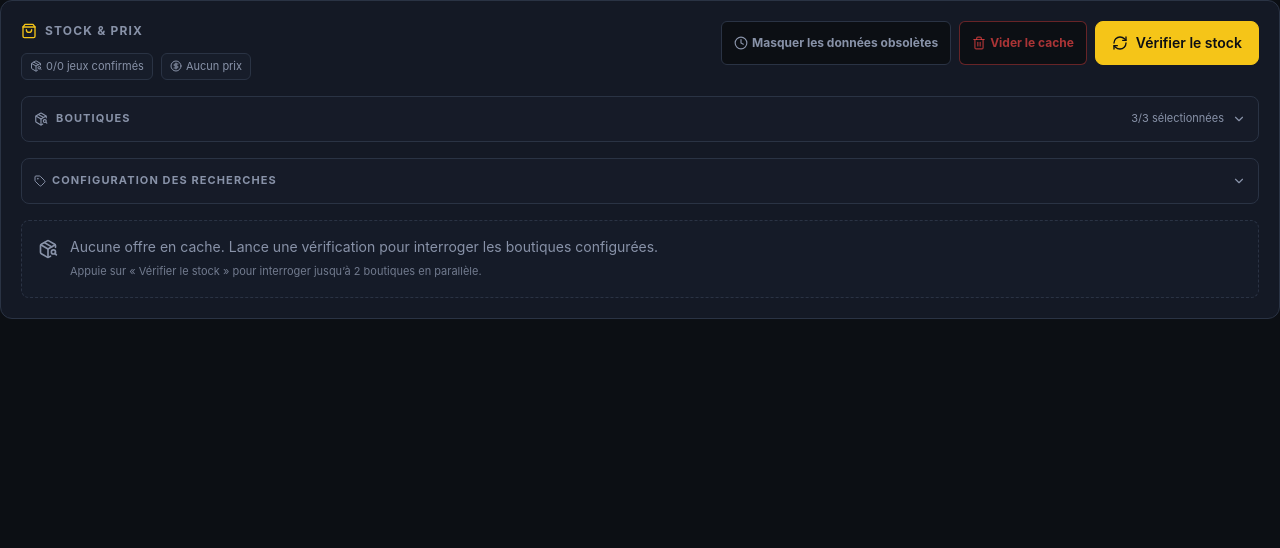
Test: StockPanel › renders provider capability and disabled/cached badge variants
Click the text "Boutiques" at [93, 118], box [56,111,131,125]
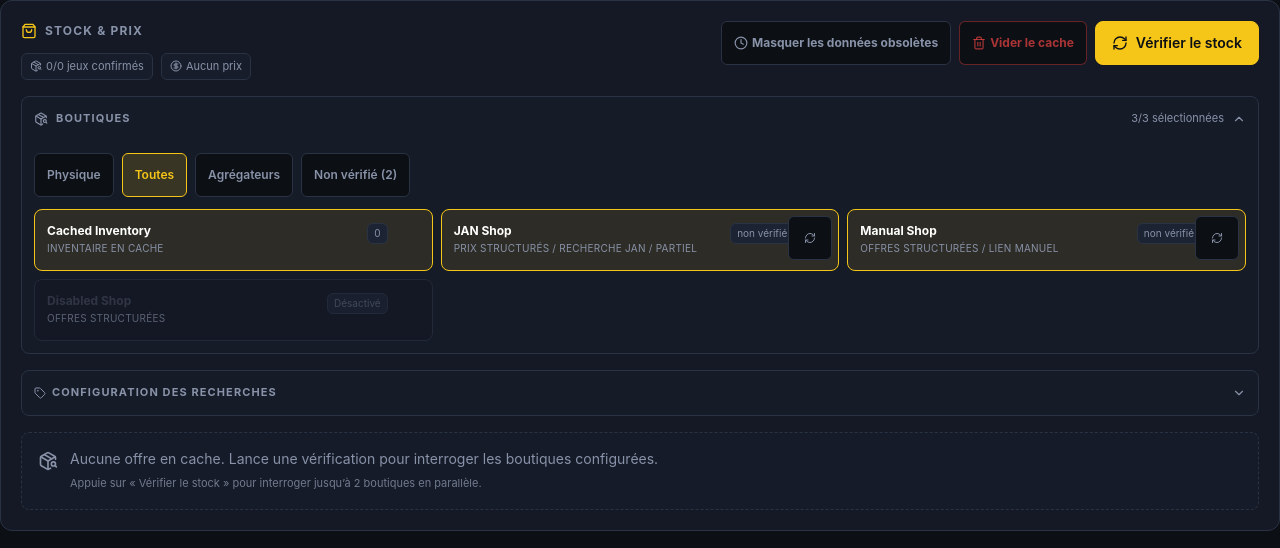
Now the text "Inventaire en cache" is shown, box [47,241,164,256]
Now the button with aria-label "Cached Inventory:" is enabled, box [47,218,388,262]
Now the text "Désactivé" is shown, box [327,293,388,314]
